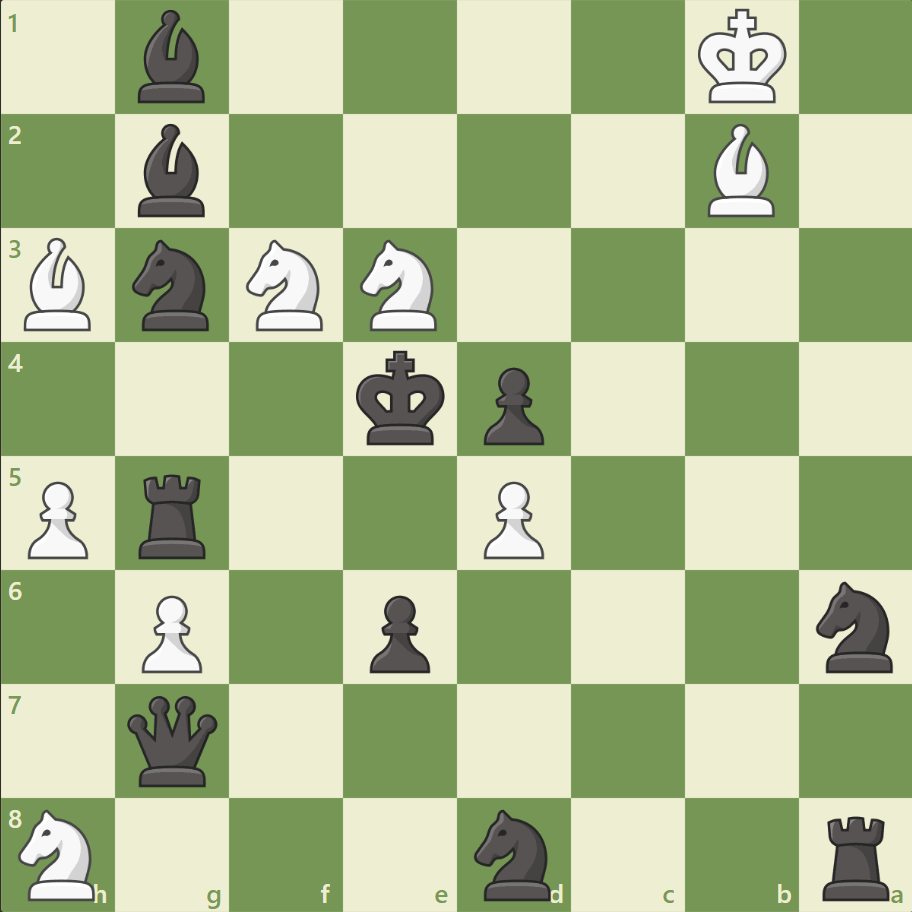B: (17, 233, 101, 336), (698, 120, 782, 222)
K: (692, 4, 792, 112)
N: (351, 234, 449, 337), (238, 234, 335, 337), (11, 802, 108, 904)
P: (133, 586, 208, 677), (474, 473, 549, 564), (20, 473, 95, 564)
b: (131, 6, 215, 109), (131, 120, 215, 222)
k: (351, 344, 451, 452)
n: (124, 234, 222, 337), (465, 802, 562, 904), (806, 575, 903, 677)
p: (474, 359, 549, 450), (361, 586, 435, 677)
q: (124, 690, 223, 789)
r: (814, 806, 897, 904), (133, 466, 215, 563)
